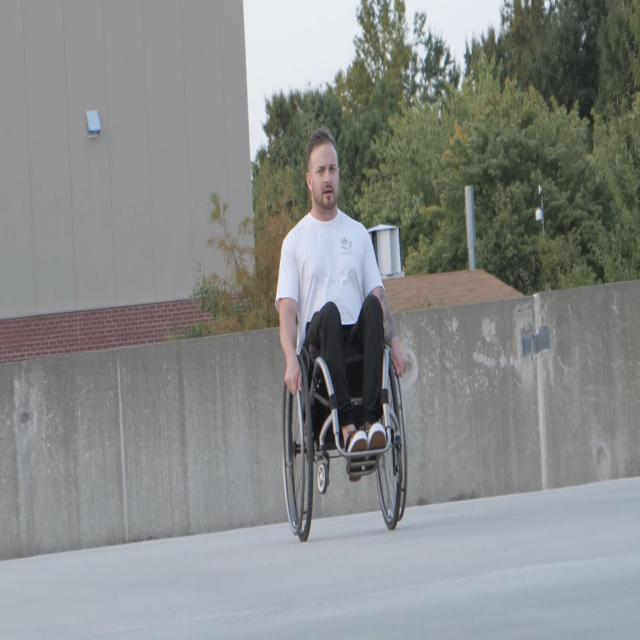wheelchairs: (281, 255, 407, 541)
